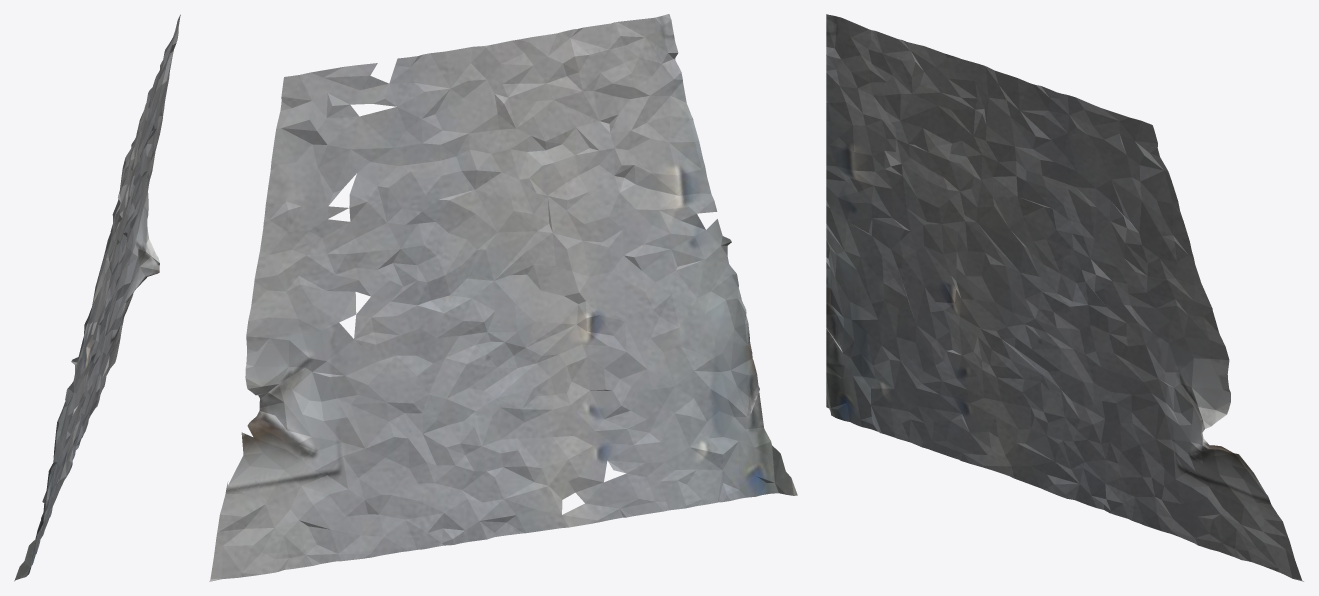
The picture shows the model from 3 angles, left to right: view 1: azimuth 30°, elevation 25°; view 2: azimuth 150°, elevation 25°; view 3: azimuth 270°, elevation 25°; orthographic projection. The views are drawn at different scales.
Size of the model in its own units: 0.6869 by 0.8374 by 0.7948.
Materials: 3 (3 with a texture image).
